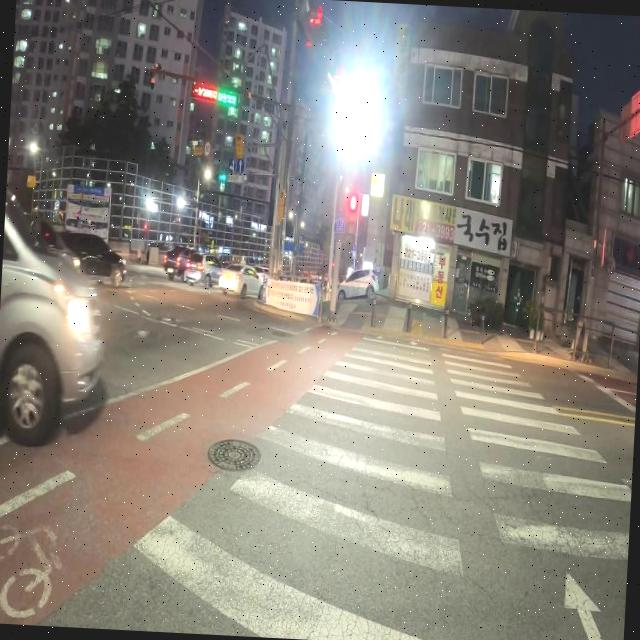crosswalk: (130, 331, 630, 640)
